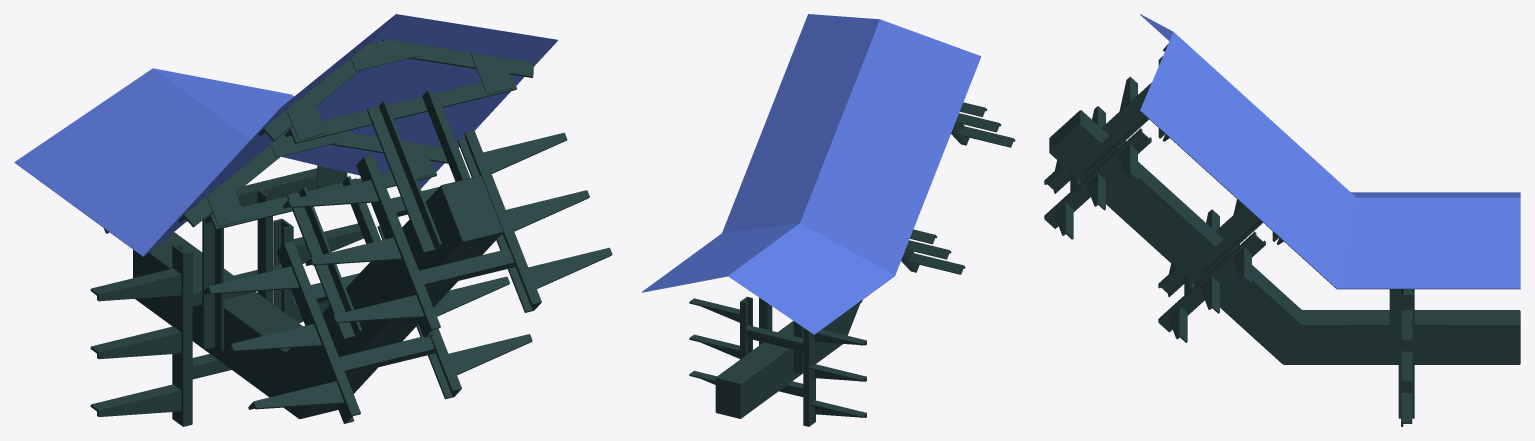
3 renders of one model, left to right at view 1: azimuth 30°, elevation 25°; view 2: azimuth 150°, elevation 25°; view 3: azimuth 270°, elevation 25°, orthographic. The views are drawn at different scales.
Parts seen in each view (by area): view 1: SM_Up-45_LOD0; view 2: SM_Up-45_LOD0; view 3: SM_Up-45_LOD0.
Part boxes in pixels (<box>): SM_Up-45_LOD0: <box>14,14,612,426</box>; SM_Up-45_LOD0: <box>641,14,1015,426</box>; SM_Up-45_LOD0: <box>1044,14,1520,426</box>.
Size of what is drawn, in the model's own units: 100 by 178 by 209.
